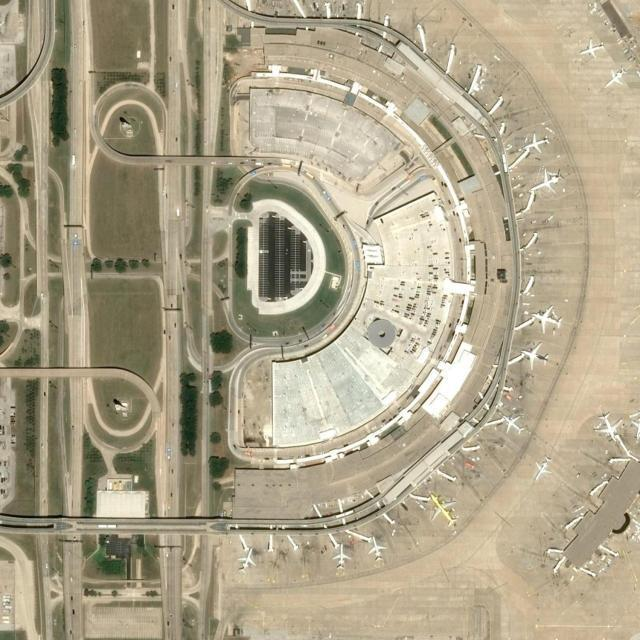Aircraft: (428, 493, 458, 529), (530, 305, 566, 333), (597, 410, 624, 440), (521, 342, 549, 370), (530, 170, 560, 196), (498, 410, 526, 434), (578, 37, 605, 59), (601, 69, 629, 89), (524, 132, 549, 154), (236, 548, 258, 572), (367, 536, 386, 563), (533, 455, 551, 483), (331, 544, 351, 569)
